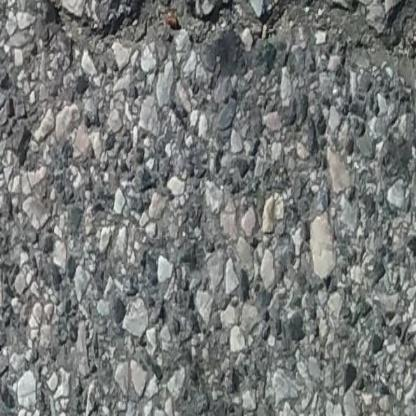Cracks: (23, 0, 416, 64)
